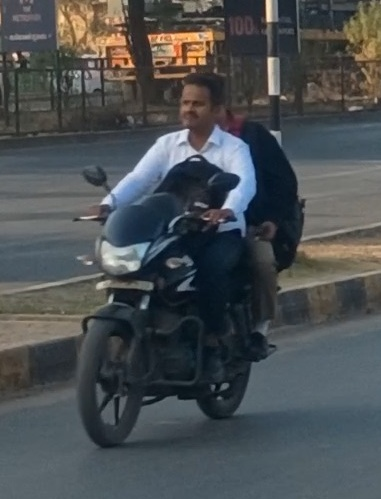BikeWithRider: (62, 66, 313, 454)
NoHelmet: (170, 68, 232, 134)
